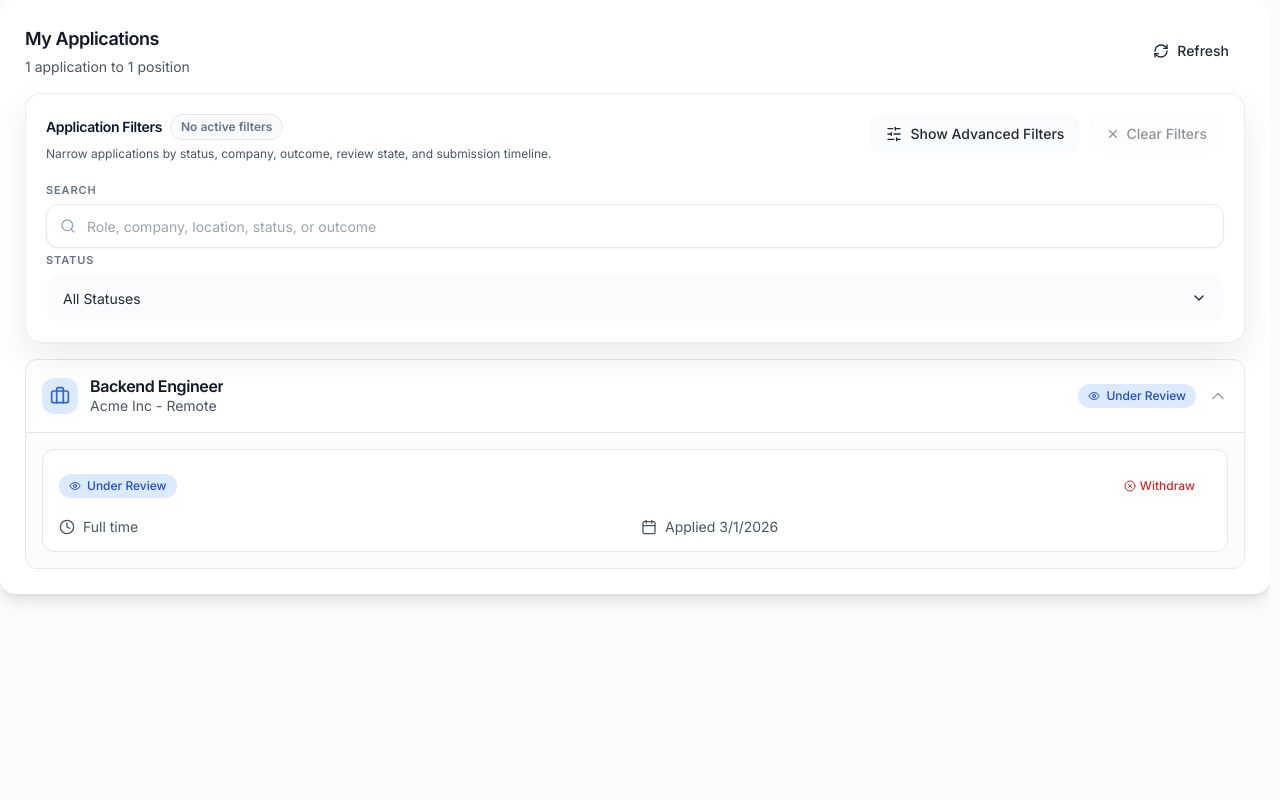
MyApplicationsList withdraw flow › shows an error message when withdraw request fails
Click the button "Withdraw".
click(1159, 486)  # box x1=1108 y1=466 x2=1211 y2=506
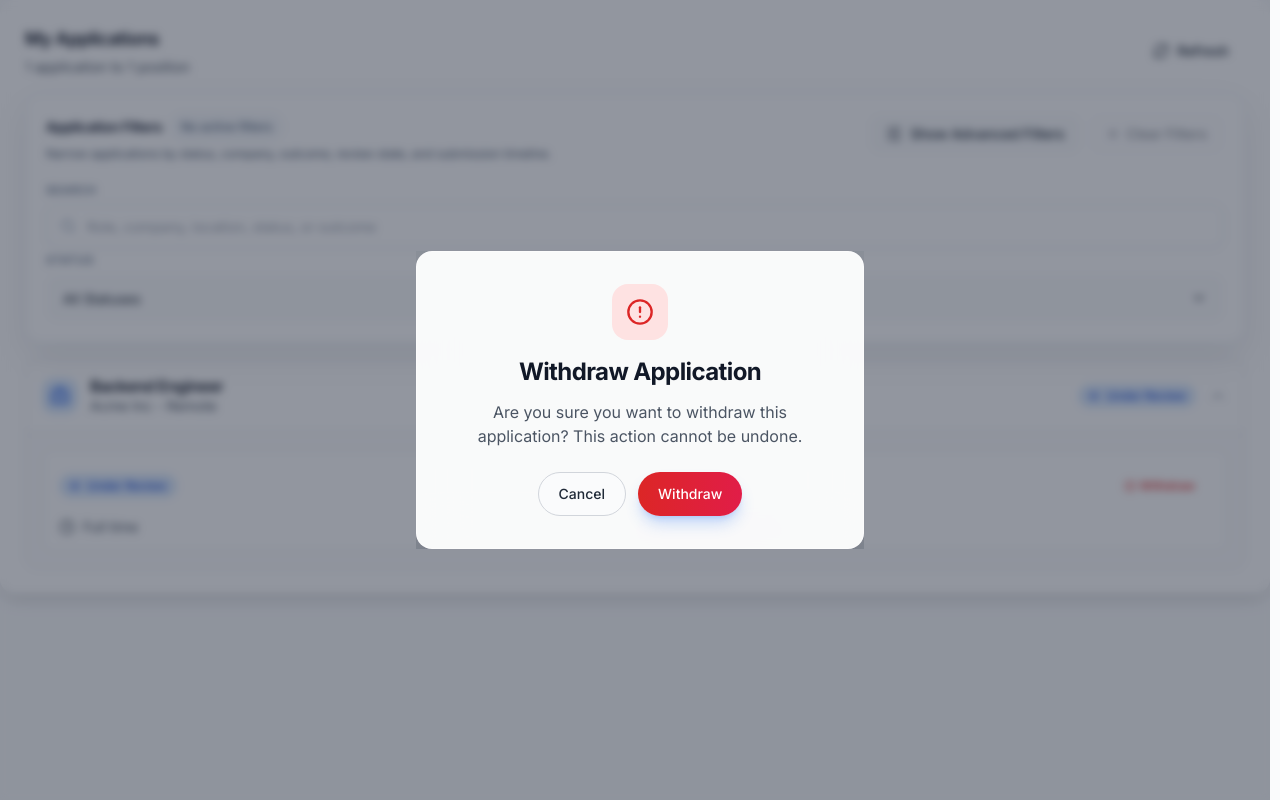
Click the button "Withdraw".
click(690, 494)  # box x1=638 y1=472 x2=742 y2=516
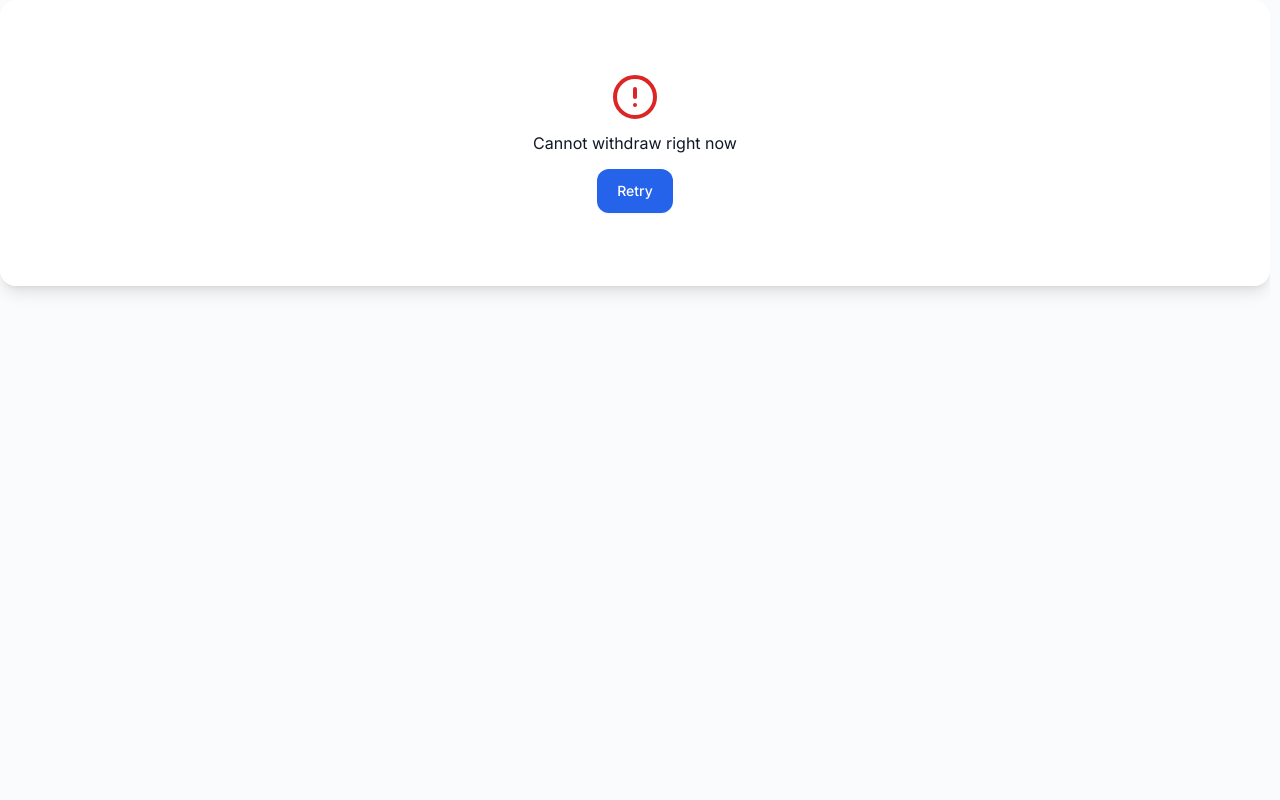
Result: the text "Cannot withdraw right now" is shown at x1=533 y1=133 x2=737 y2=153
